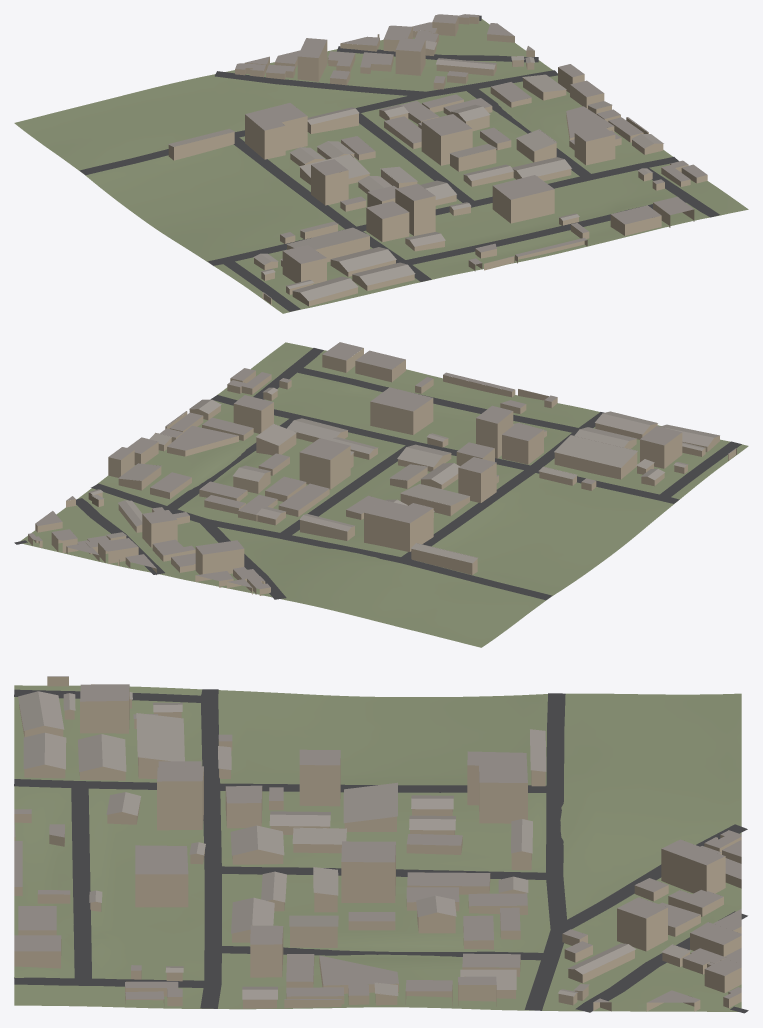
The picture shows the model from 3 angles, top to bottom: view 1: azimuth 30°, elevation 25°; view 2: azimuth 150°, elevation 25°; view 3: azimuth 270°, elevation 25°; orthographic projection. The views are drawn at different scales.
Parts seen in each view (by area): view 1: ground, walls, roofs, road, sheetRoofs; view 2: ground, walls, roofs, road, sheetRoofs; view 3: ground, walls, roofs, road, sheetRoofs.
Part boxes in pixels (x1,y1,x2,y2): ground: (14,19,748,313); walls: (168,15,707,306); roofs: (235,14,707,298); road: (79,15,719,311); sheetRoofs: (168,40,663,301); ground: (20,342,748,647); walls: (28,348,736,595); roofs: (28,342,736,589); road: (14,348,741,600); sheetRoofs: (88,387,719,563); ground: (14,685,741,1011); walls: (14,677,741,1011); roofs: (14,676,741,1002); road: (14,689,748,1013); sheetRoofs: (18,691,690,999).
Size of the model in its own units: 252 by 22.22 by 253.
